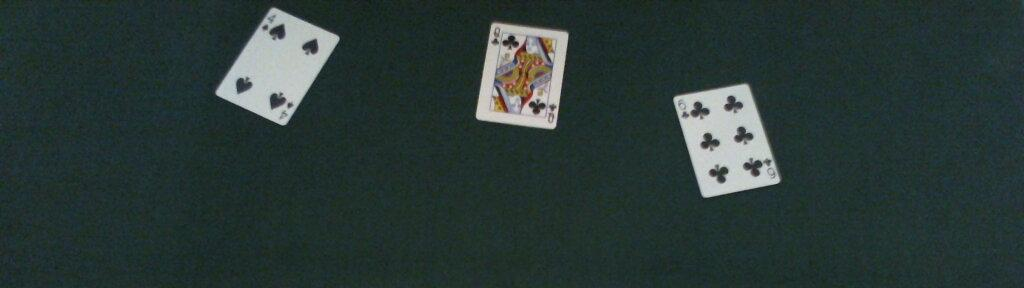four: (215, 6, 339, 126)
queen: (475, 20, 571, 129)
six: (672, 82, 781, 199)
